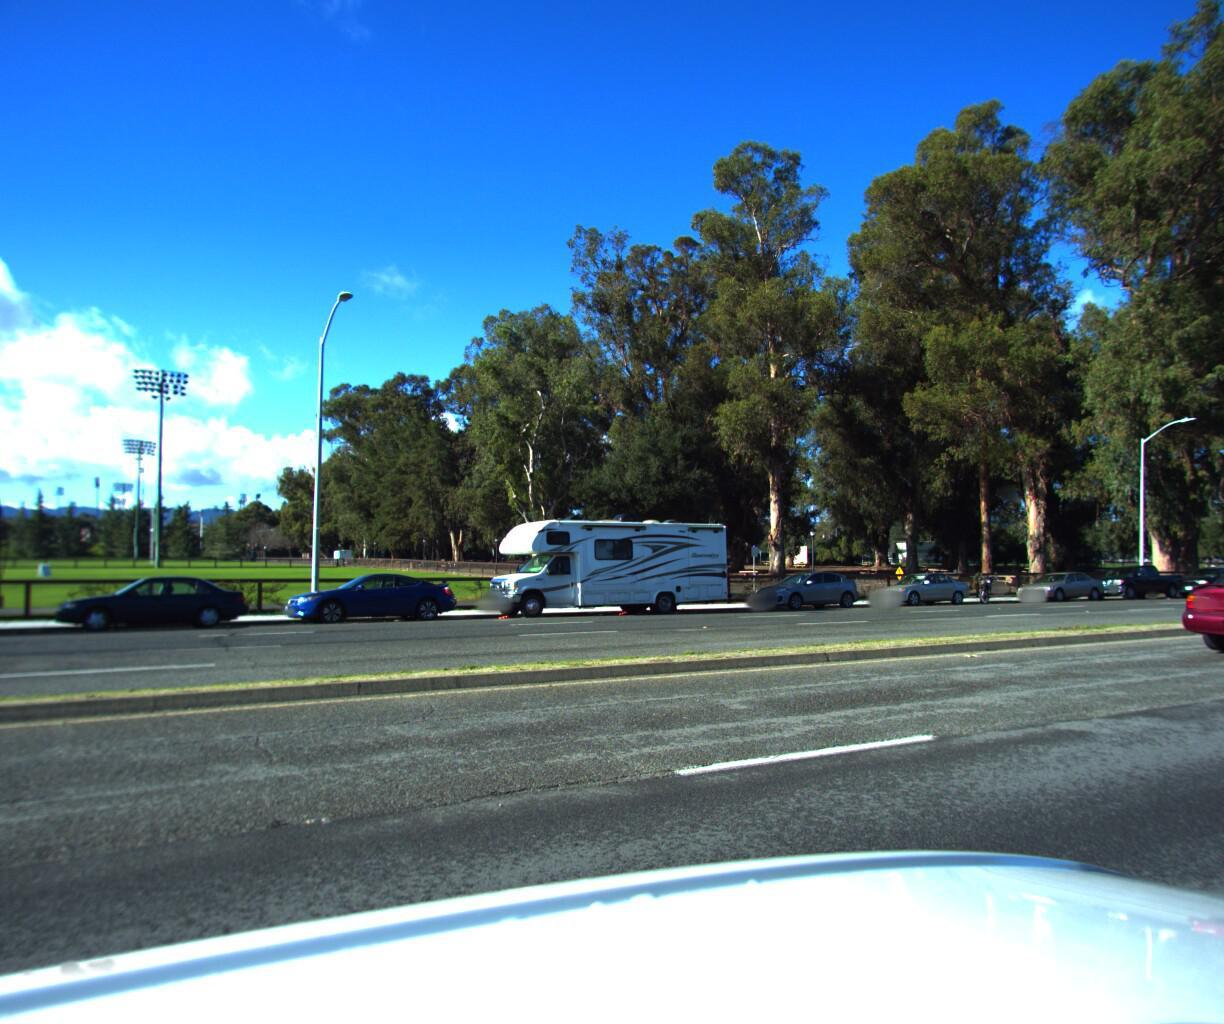bus: (0, 448, 16, 677)
car: (49, 573, 256, 640), (276, 569, 465, 633), (1169, 551, 1224, 667), (743, 568, 864, 612), (862, 566, 971, 605), (1077, 559, 1180, 596), (1005, 566, 1104, 599), (1161, 557, 1224, 593)
motorcycle: (969, 566, 1000, 601)
other_vehicle: (472, 503, 734, 624)
